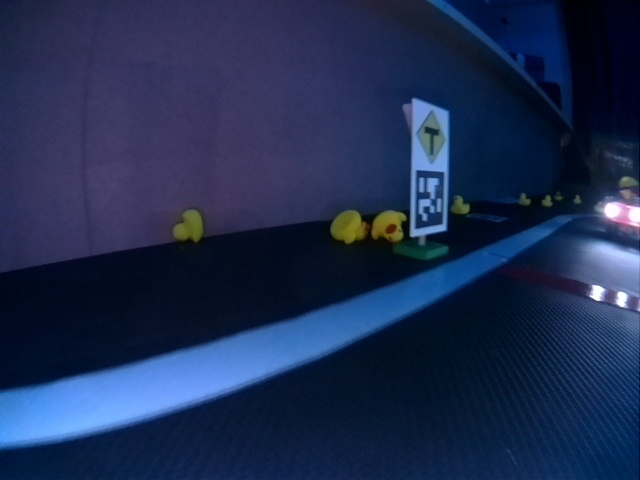Duckie: (331, 210, 367, 244), (372, 210, 406, 241), (173, 209, 203, 242), (451, 196, 470, 214), (519, 193, 531, 205), (541, 195, 552, 205), (573, 195, 581, 204)
Intersection sign: (414, 109, 449, 162)
QR code: (414, 171, 447, 230)
